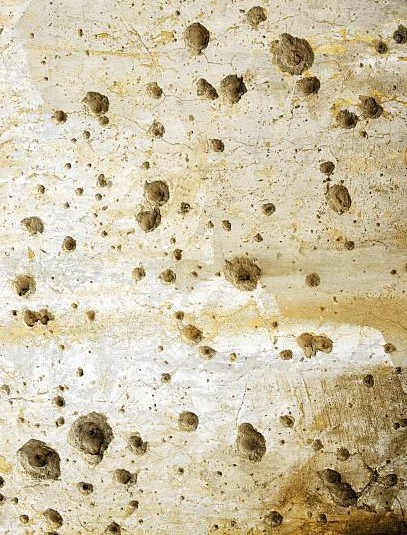Spalling: (1, 1, 407, 535)
